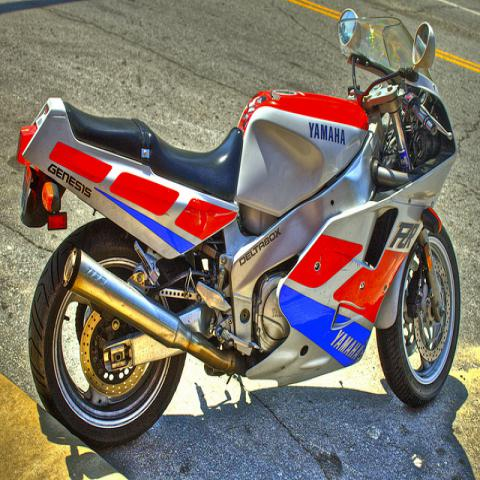motorcycle: (16, 7, 463, 444)
